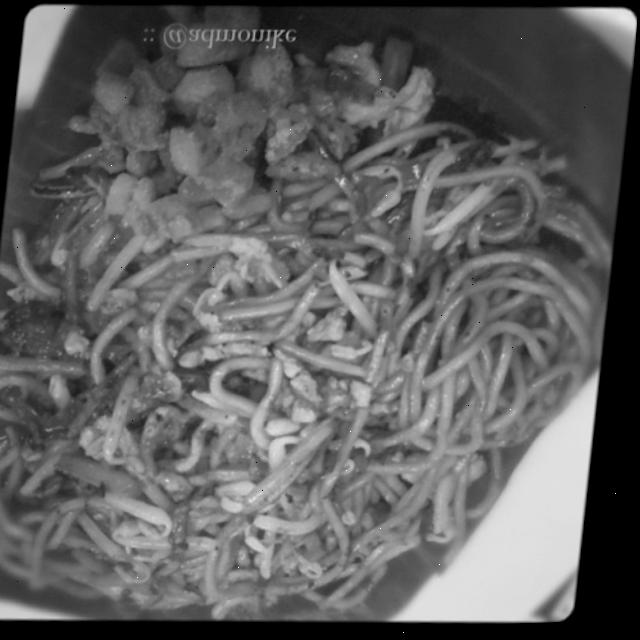面条主食: (0, 19, 620, 624)
